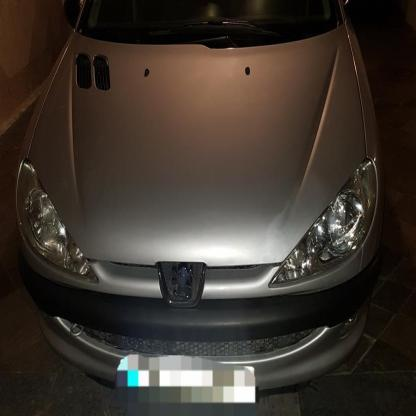Car: (3, 0, 382, 409)
